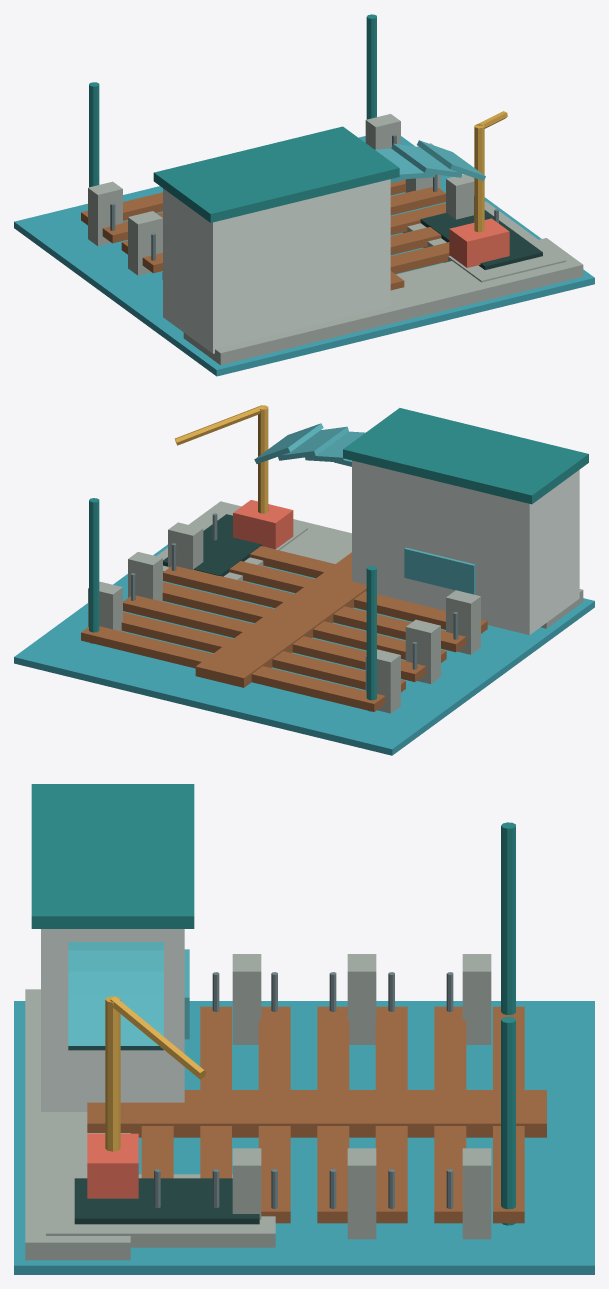
The model's file is marina_lv4.glb.
3 views of the same model, one above another, from view 1: azimuth 30°, elevation 25°; view 2: azimuth 150°, elevation 25°; view 3: azimuth 270°, elevation 25° (orthographic). The views are drawn at different scales.
Visible parts, largest first — view 1: white, concrete, teal, water, wood, glass, coral, dark, gold, steel; view 2: wood, white, water, teal, concrete, glass, coral, dark, gold, steel; view 3: water, wood, concrete, teal, white, glass, dark, gold, steel, coral.
Boxes of the visible parts, x1,y1,x2,y2 form: white: (163,179,390,353); concrete: (88,114,583,365); teal: (89,14,399,222); water: (14,136,594,376); wood: (81,180,449,290); glass: (375,140,485,183); coral: (449,218,509,267); dark: (420,210,542,269); gold: (474,111,507,232); steel: (110,134,498,260); wood: (81,546,487,711); white: (352,460,579,634); water: (14,544,594,755); teal: (89,408,588,711); concrete: (88,501,583,713); glass: (254,423,475,594); coral: (233,500,293,549); dark: (163,514,261,576); gold: (175,405,268,513); steel: (131,513,458,669); water: (14,1001,594,1274); wood: (87,1006,546,1223); concrete: (25,954,491,1260); teal: (31,784,515,1225); white: (41,929,184,1111); glass: (68,942,189,1050); dark: (74,1178,259,1224); gold: (105,996,206,1151); steel: (154,972,453,1208); coral: (87,1133,138,1198).
Bounding box in the file's own units: 9.8 × 3.91 × 9.1.
